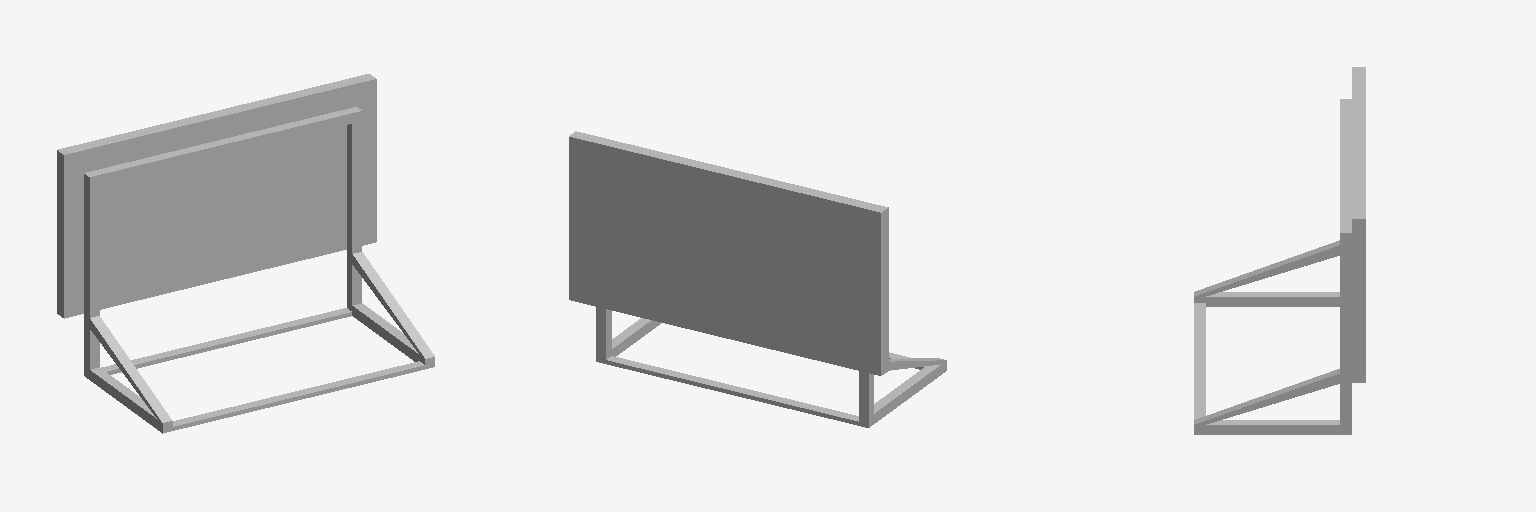
Rendered from billboardLow.obj.
The picture shows the model from 3 angles: view 1: azimuth 30°, elevation 25°; view 2: azimuth 150°, elevation 25°; view 3: azimuth 270°, elevation 25°; orthographic projection.
Visible parts, largest first — view 1: billboardLow; view 2: billboardLow; view 3: billboardLow.
Part boxes in pixels (x1,y1,x2,y2): billboardLow: (57,74,434,433); billboardLow: (569,131,946,427); billboardLow: (1194,67,1365,434).
Size of the model in its own units: 1 by 0.69 by 0.4762.